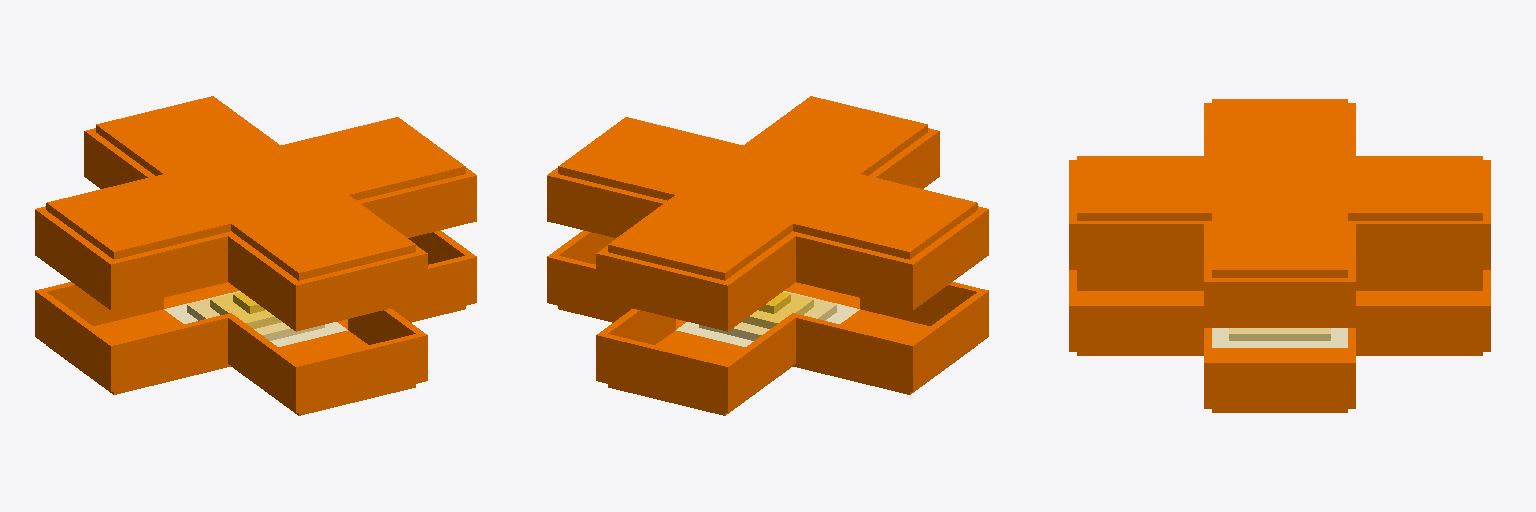
The model's file is room1.obj.
The picture shows the model from 3 angles: view 1: azimuth 30°, elevation 25°; view 2: azimuth 150°, elevation 25°; view 3: azimuth 270°, elevation 25°; orthographic projection.
Parts seen in each view (by area): view 1: Mesh4 Group1 Model, Mesh8 Group5 Model, Mesh2 Group3 Group1 Model, Mesh7 Group8 Group5 Model; view 2: Mesh4 Group1 Model, Mesh8 Group5 Model, Mesh2 Group3 Group1 Model, Mesh7 Group8 Group5 Model; view 3: Mesh4 Group1 Model, Mesh8 Group5 Model, Mesh2 Group3 Group1 Model.
Boxes of the visible parts, x1=… form: Mesh4 Group1 Model: x1=35, y1=96, x2=476, y2=331; Mesh8 Group5 Model: x1=35, y1=230, x2=476, y2=415; Mesh2 Group3 Group1 Model: x1=164, y1=146, x2=347, y2=223; Mesh7 Group8 Group5 Model: x1=210, y1=292, x2=281, y2=328; Mesh4 Group1 Model: x1=547, y1=96, x2=988, y2=331; Mesh8 Group5 Model: x1=547, y1=230, x2=988, y2=415; Mesh2 Group3 Group1 Model: x1=676, y1=146, x2=859, y2=223; Mesh7 Group8 Group5 Model: x1=742, y1=292, x2=813, y2=328; Mesh4 Group1 Model: x1=1069, y1=99, x2=1490, y2=327; Mesh8 Group5 Model: x1=1069, y1=270, x2=1490, y2=412; Mesh2 Group3 Group1 Model: x1=1212, y1=156, x2=1347, y2=212.
Bounding box in the file's own units: 300 × 112 × 300.